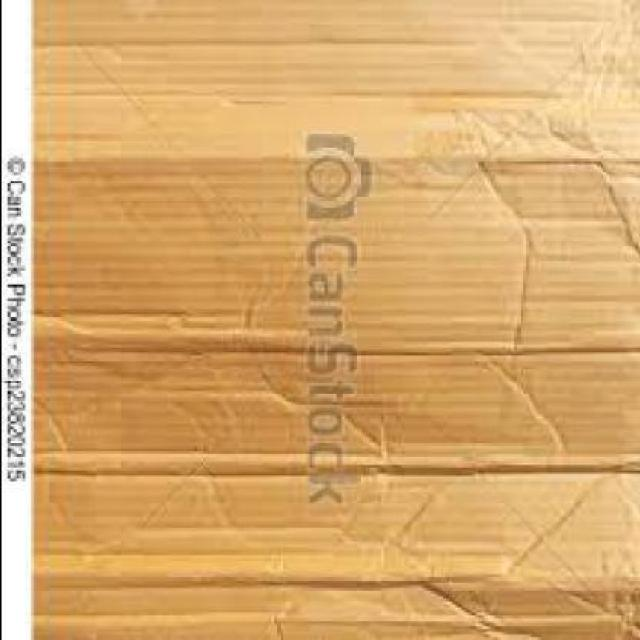CARDBOARD: (35, 0, 638, 638)
